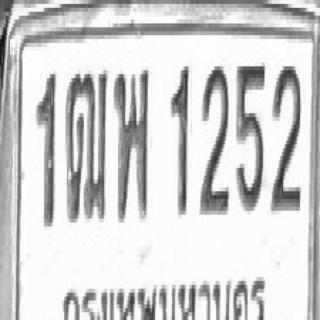A18: (65, 66, 107, 222)
A30: (113, 64, 148, 220)
N01: (35, 70, 56, 226), (169, 62, 189, 215)
N02: (270, 62, 301, 211), (199, 62, 229, 215)
N05: (235, 59, 265, 211)
